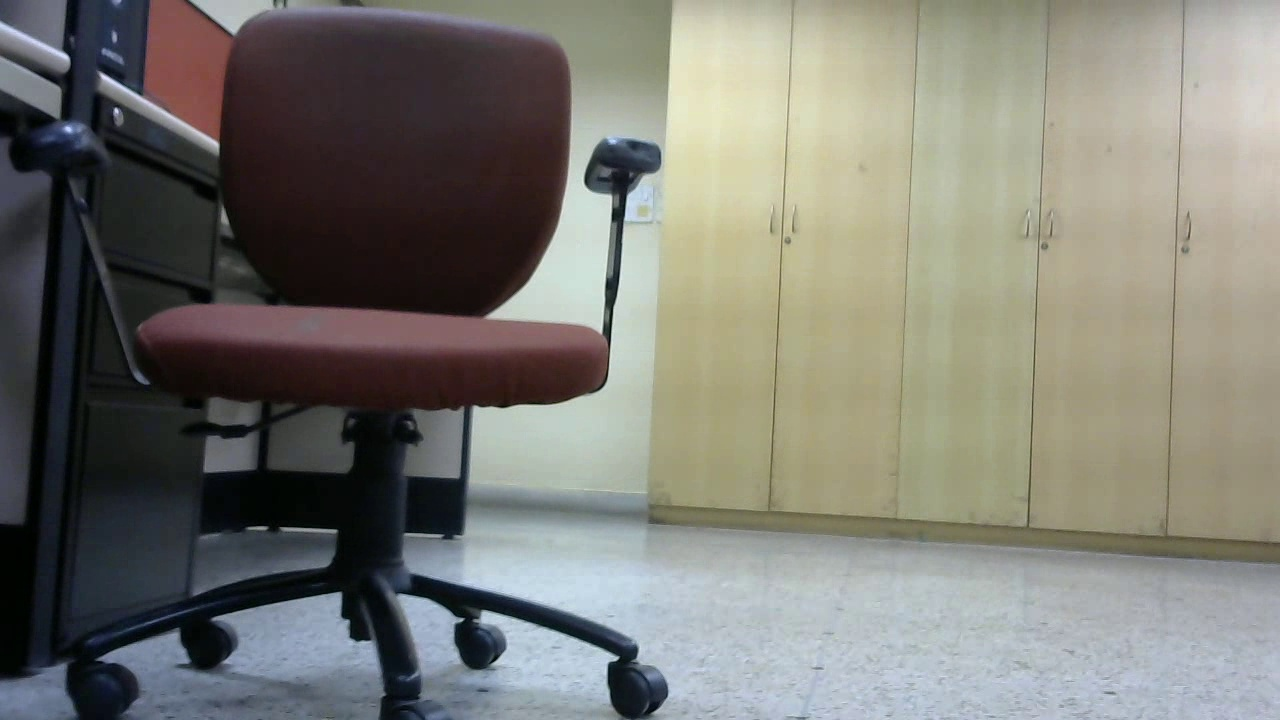chair: (725, 229, 1003, 595), (342, 199, 548, 543)
